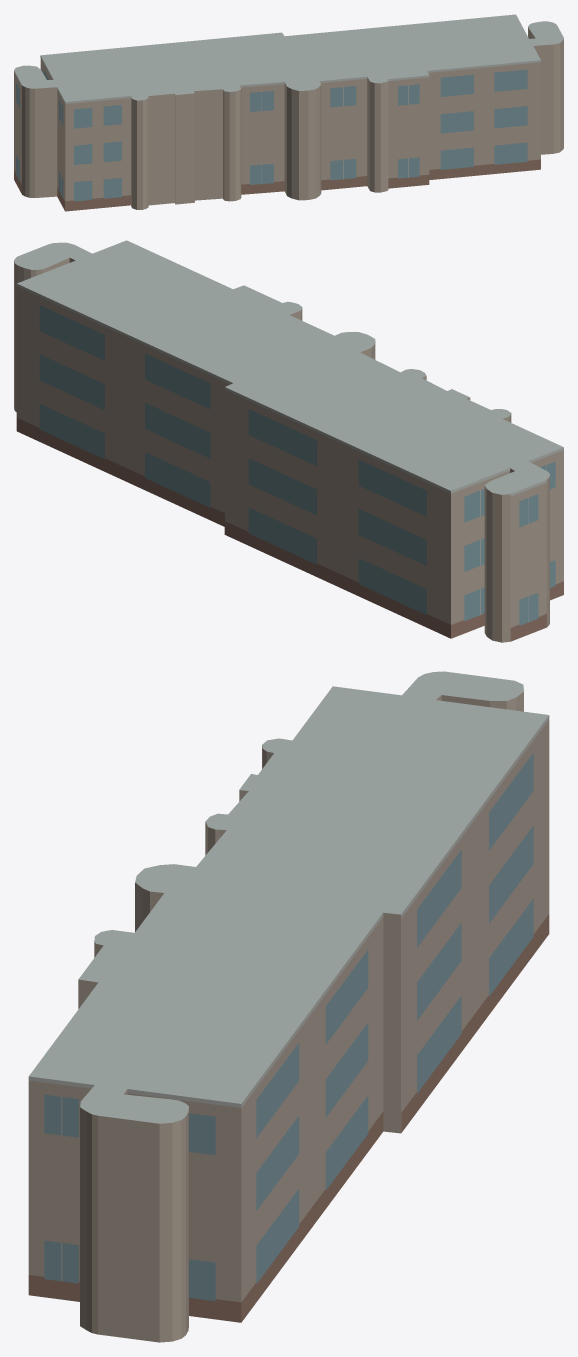
Rendered from survey-upis-32469990.glb.
The picture shows the model from 3 angles, top to bottom: view 1: azimuth 30°, elevation 25°; view 2: azimuth 150°, elevation 25°; view 3: azimuth 270°, elevation 25°; orthographic projection. The views are drawn at different scales.
Parts seen in each view (by area): view 1: survey-upis-32469990.tmp; view 2: survey-upis-32469990.tmp; view 3: survey-upis-32469990.tmp.
Boxes of the visible parts, x1=… form: survey-upis-32469990.tmp: x1=14, y1=14, x2=563, y2=211; survey-upis-32469990.tmp: x1=14, y1=240, x2=563, y2=642; survey-upis-32469990.tmp: x1=28, y1=671, x2=549, y2=1342.
Bounding box in the file's own units: 57.63 × 13 × 28.04.
